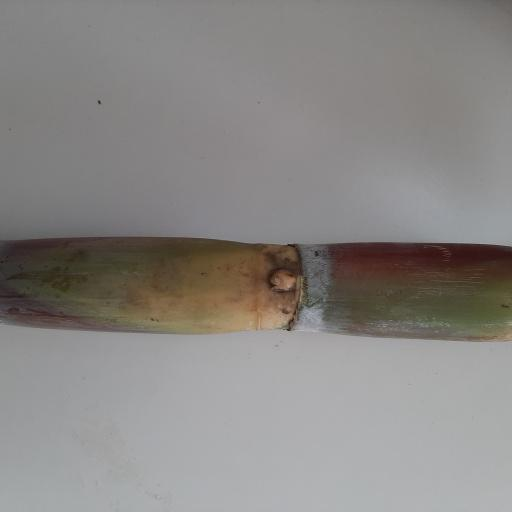Bud: (266, 270, 300, 292)
